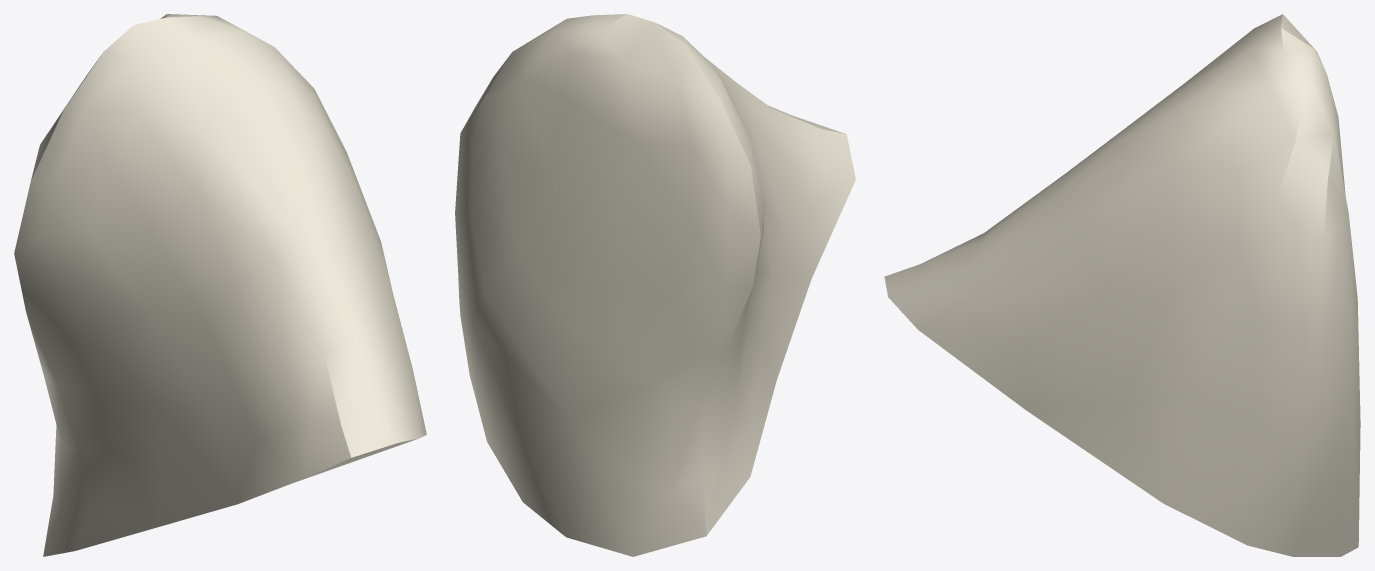
Rendered from fma12120_mm2388m.glb.
The picture shows the model from 3 angles, left to right: view 1: azimuth 30°, elevation 25°; view 2: azimuth 150°, elevation 25°; view 3: azimuth 270°, elevation 25°; orthographic projection. The views are drawn at different scales.
Visible parts, largest first — view 1: FMA12120_MM2388M; view 2: FMA12120_MM2388M; view 3: FMA12120_MM2388M.
Part boxes in pixels (box(x1,y1,x2,y2)): FMA12120_MM2388M: box(14, 14, 426, 556); FMA12120_MM2388M: box(455, 14, 855, 556); FMA12120_MM2388M: box(884, 14, 1360, 556).
Size of the model in its own units: 0.00674 by 0.0105 by 0.00883.
